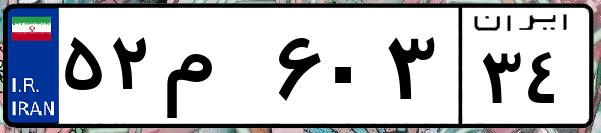0: (330, 28, 385, 110)
2: (110, 28, 158, 98)
3: (385, 28, 445, 110), (475, 38, 525, 113)
4: (525, 38, 570, 115)
5: (57, 26, 110, 100)
6: (270, 28, 330, 110)
م: (158, 20, 270, 120)
